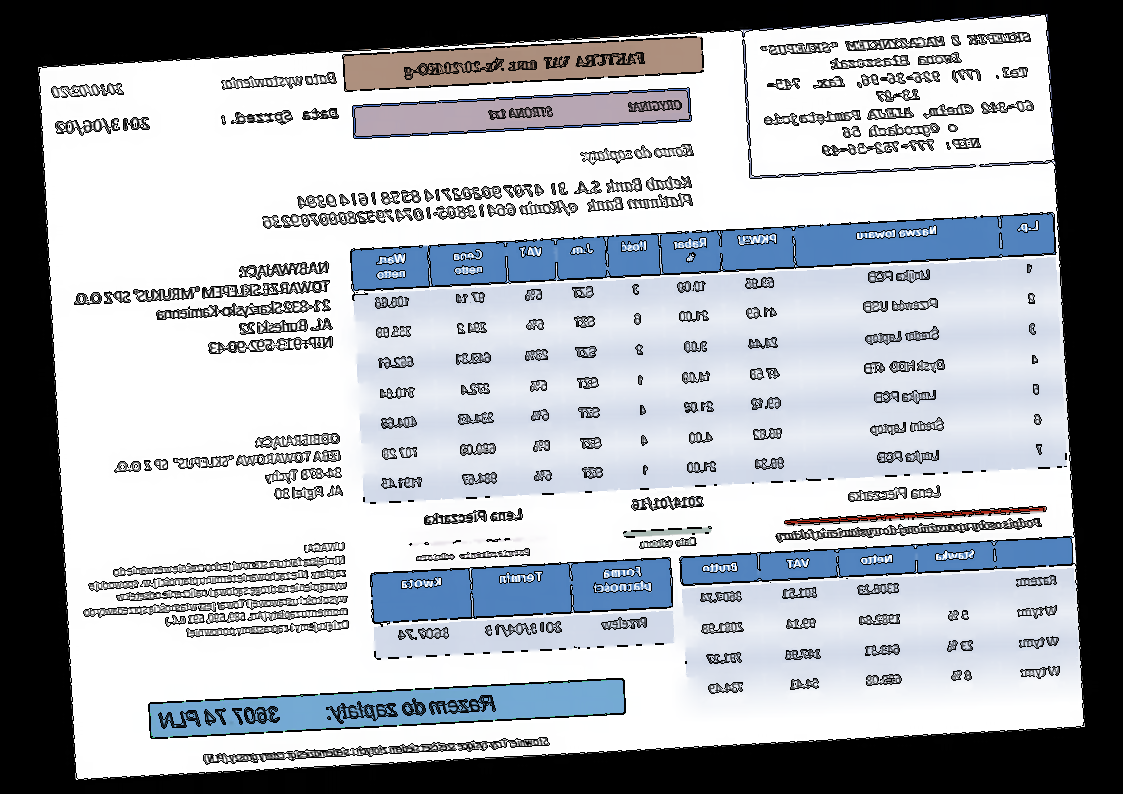Table: (349, 211, 1069, 505), (679, 535, 1082, 709), (368, 557, 676, 660)
TextBox: (757, 25, 1039, 162), (81, 539, 353, 647), (70, 259, 336, 366), (258, 172, 694, 232), (112, 429, 346, 511), (156, 691, 501, 733), (204, 732, 551, 767), (401, 47, 648, 82), (773, 514, 1044, 545), (485, 96, 685, 123), (579, 140, 696, 167), (219, 104, 339, 129), (220, 69, 338, 91), (423, 504, 526, 528), (54, 114, 152, 136), (846, 482, 943, 504), (416, 545, 532, 563), (629, 493, 706, 513), (51, 80, 126, 99), (638, 534, 698, 552)
